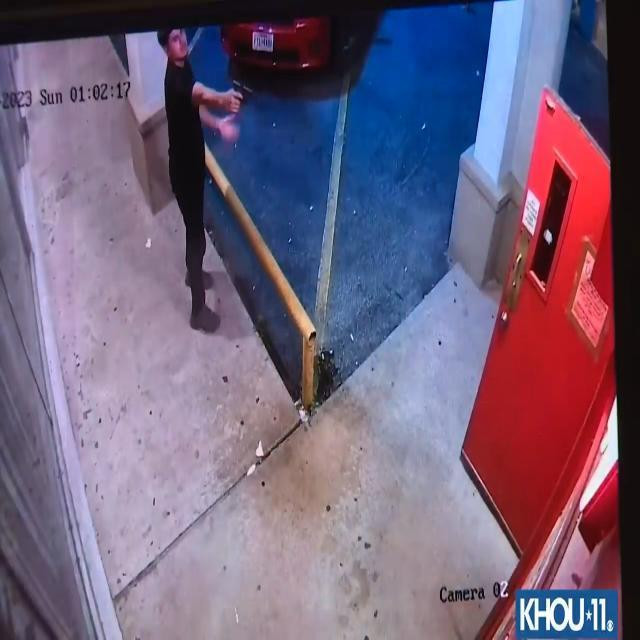Handgun: (222, 74, 256, 124)
